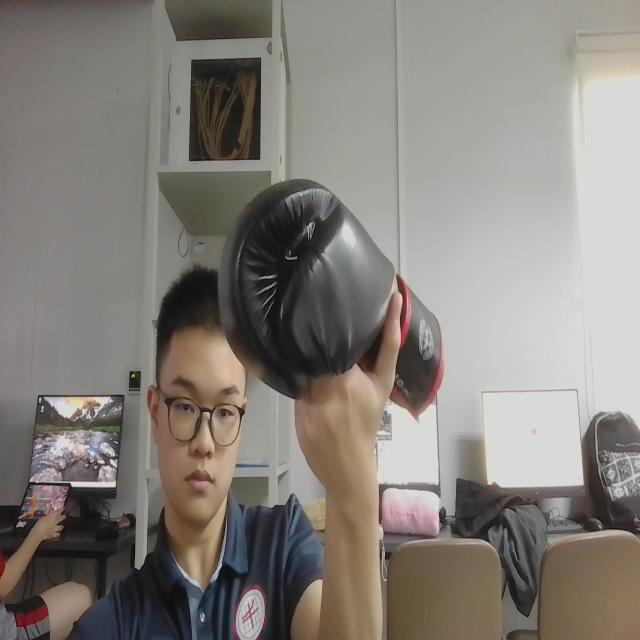boxing glove: (212, 167, 452, 461)
